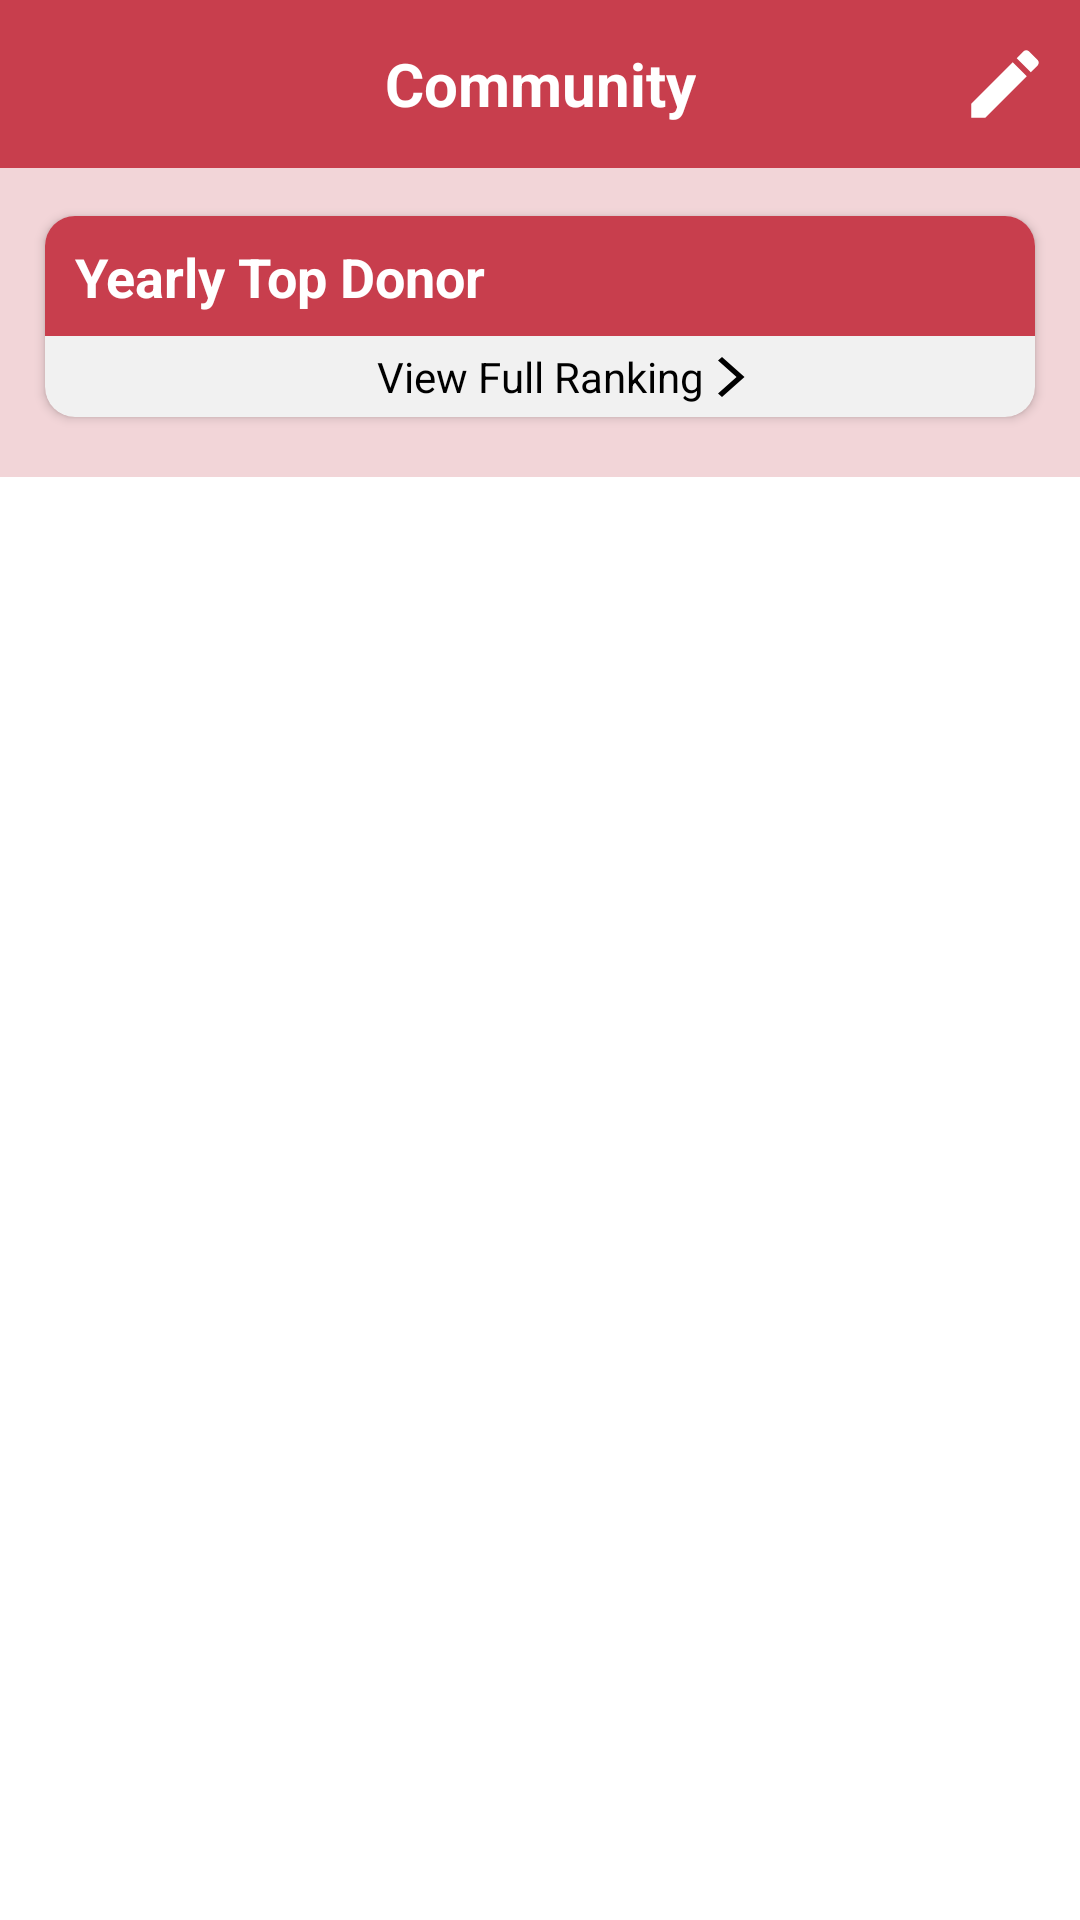

Screen size 1080w x 1920h. Icon name, then its center in pixels as point (x, y):
New post: point (1005, 84)
